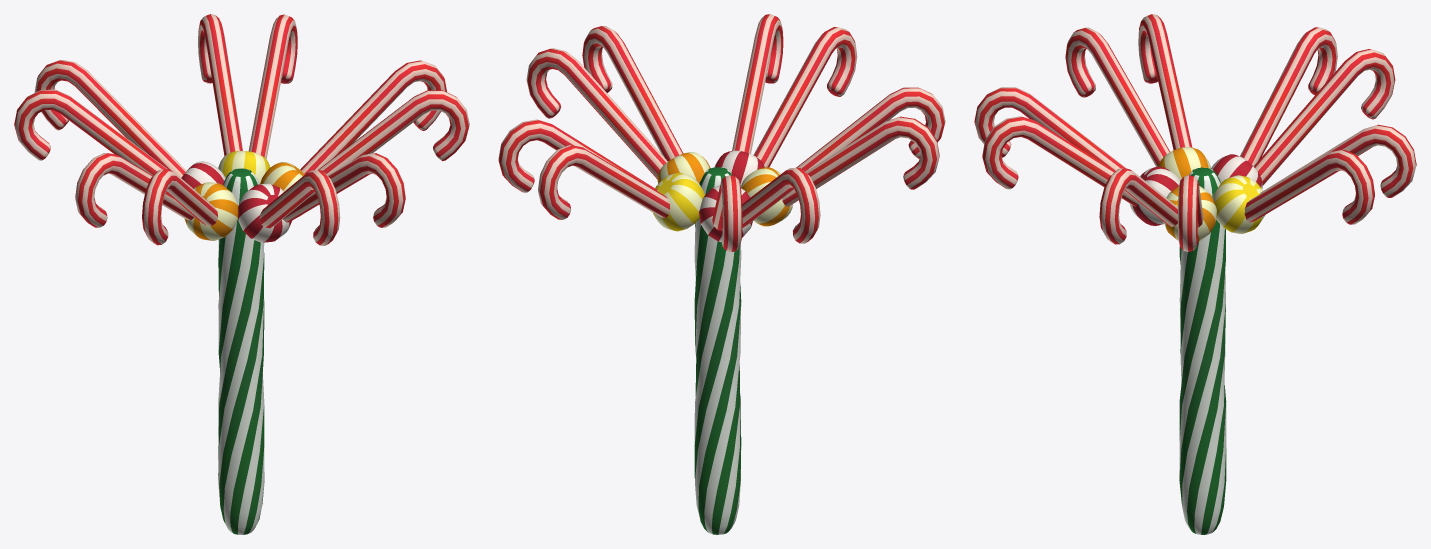
File: cw_tree_29.fbx
3 renders of one model, left to right at view 1: azimuth 30°, elevation 25°; view 2: azimuth 150°, elevation 25°; view 3: azimuth 270°, elevation 25°, orthographic.
Visible parts, largest first — view 1: cw_t_29; view 2: cw_t_29; view 3: cw_t_29.
Boxes of the visible parts, x1,y1,x2,y2 form: cw_t_29: (14,14,469,534); cw_t_29: (498,14,945,534); cw_t_29: (974,14,1416,534).
Bounding box in the file's own units: 179 × 190 × 176.
